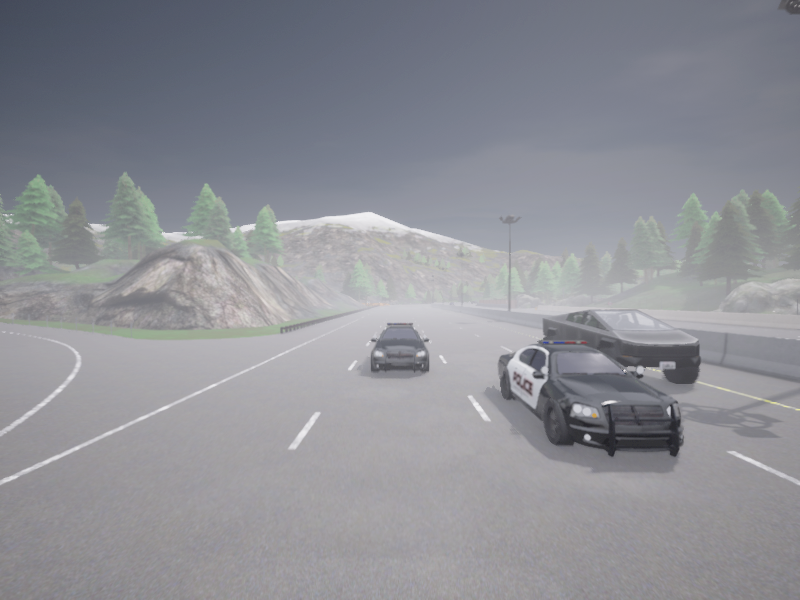vehicle: (498, 340, 683, 456), (543, 310, 700, 383), (370, 323, 429, 373), (472, 301, 478, 303), (450, 302, 454, 304)
